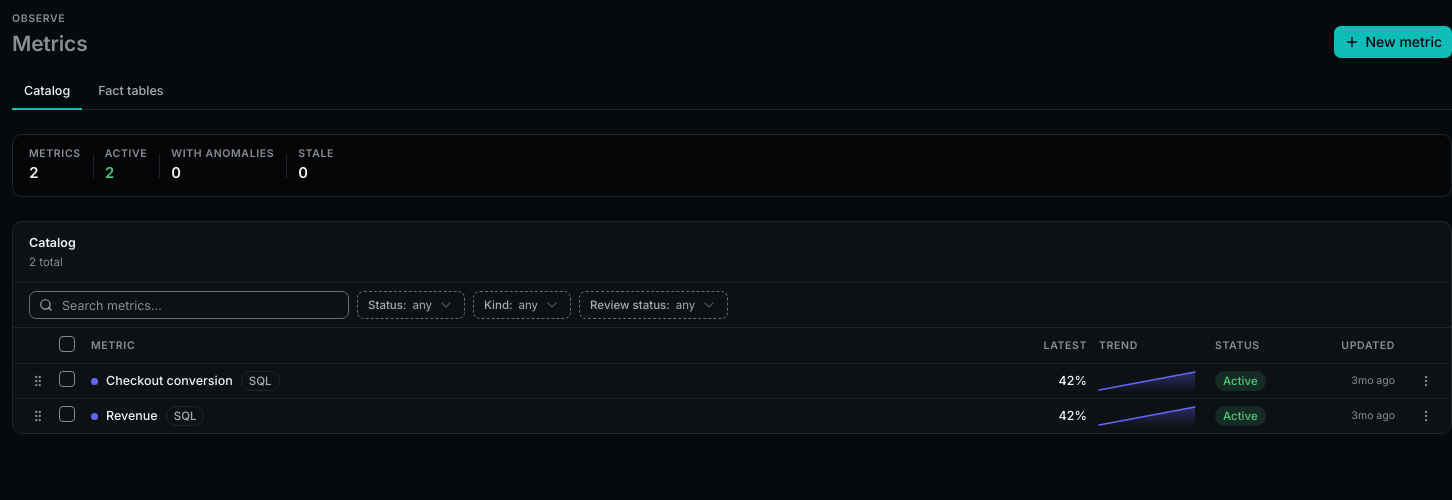
Test: MetricsPage › bulk actions and reorder (tripl-57o8) › shows a partial selection as mixed, and clears it from there (EV-26)
This screenshot has width=1452, height=500.
Click the checkbox named "Select Checkout conversion" at (67, 379), box x1=59 y1=371 x2=75 y2=387
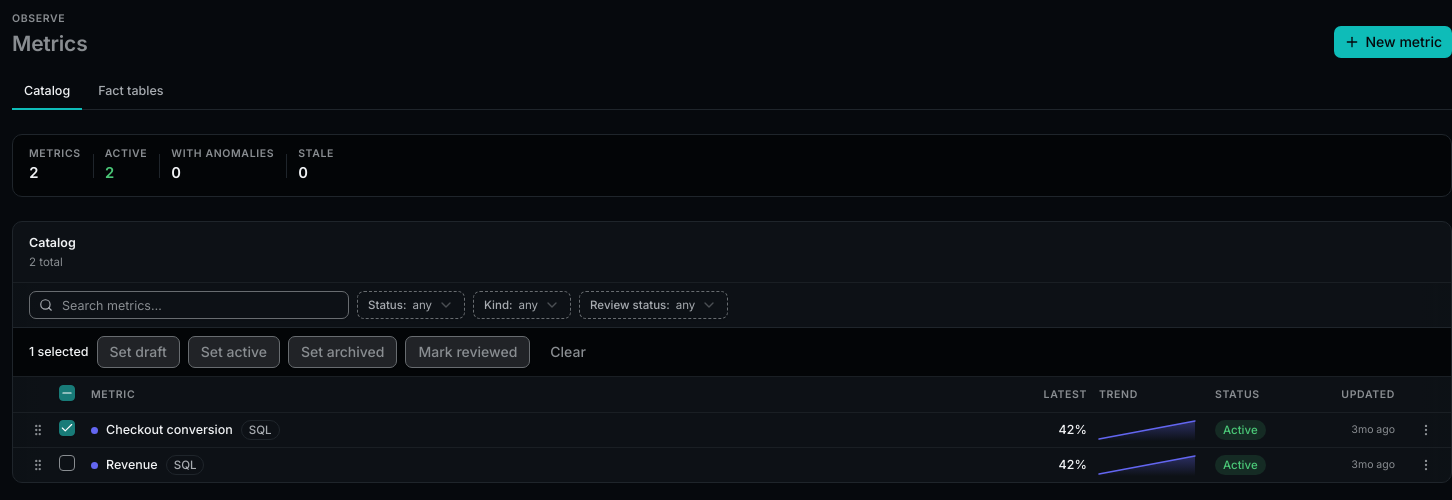
Expected: the checkbox named "Select all metrics" has attribute aria-checked="mixed"
Click the checkbox named "Select all metrics" at (67, 393), box x1=59 y1=385 x2=75 y2=401
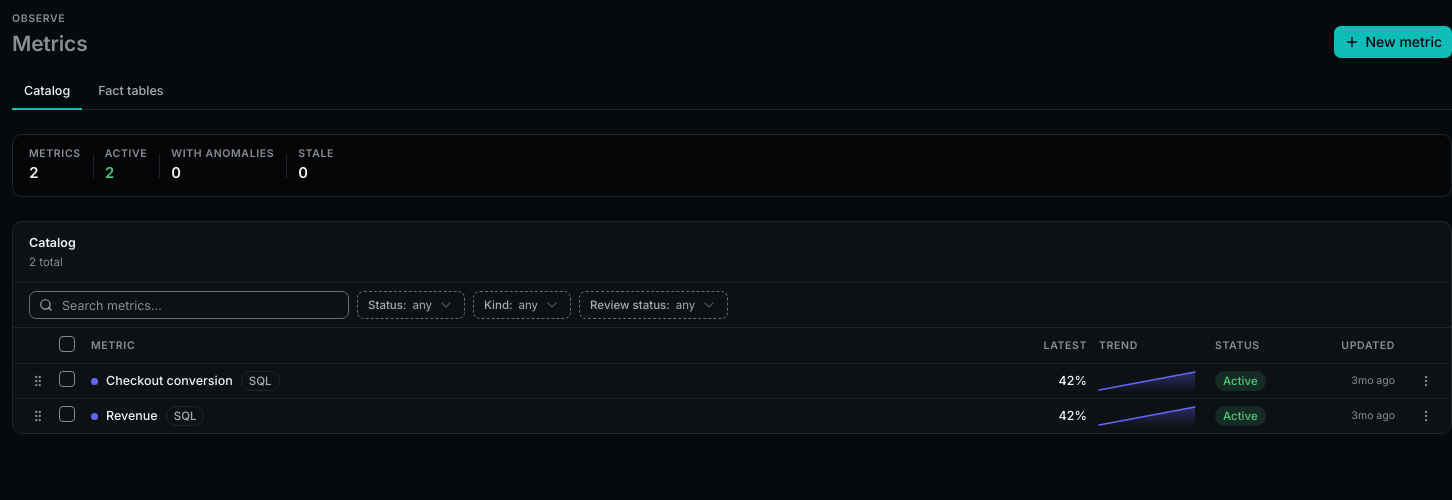
Expected: the checkbox named "Select Checkout conversion" is not checked, x1=59 y1=371 x2=75 y2=387
Expected: the text "1 selected" is gone
